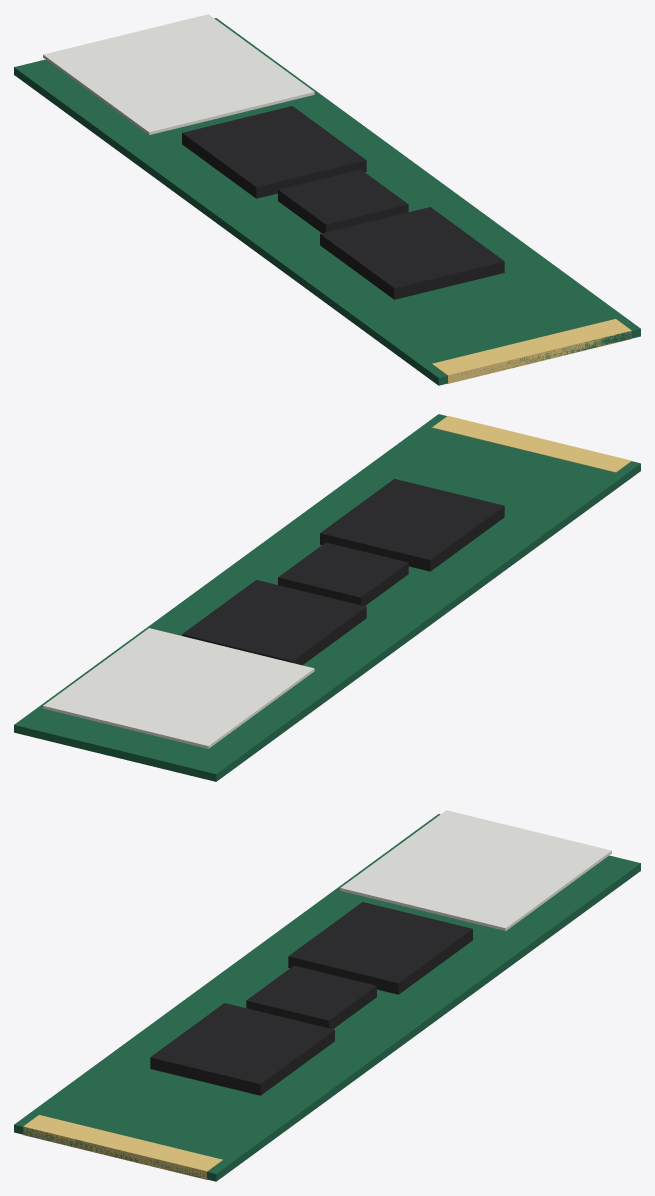
3 renders of one model, top to bottom at view 1: azimuth 30°, elevation 25°; view 2: azimuth 150°, elevation 25°; view 3: azimuth 330°, elevation 25°, orthographic.
Visible parts, largest first — view 1: Pcb, Chips, Accent, Controller, Gold; view 2: Pcb, Chips, Accent, Controller, Gold; view 3: Pcb, Chips, Accent, Controller, Gold.
Part boxes in pixels (x1,y1,x2,y2): Pcb: (14, 18, 640, 385); Chips: (182, 106, 504, 299); Accent: (43, 14, 314, 134); Controller: (278, 169, 408, 233); Gold: (432, 319, 631, 383); Pcb: (14, 414, 640, 781); Chips: (182, 479, 504, 665); Accent: (43, 628, 314, 748); Controller: (278, 542, 408, 606); Gold: (432, 416, 631, 472); Pcb: (14, 814, 640, 1181); Chips: (150, 902, 472, 1095); Accent: (340, 810, 611, 930); Controller: (246, 965, 376, 1029); Gold: (23, 1115, 222, 1179).
Size of the model in its own units: 0.022 by 0.0025 by 0.08.
